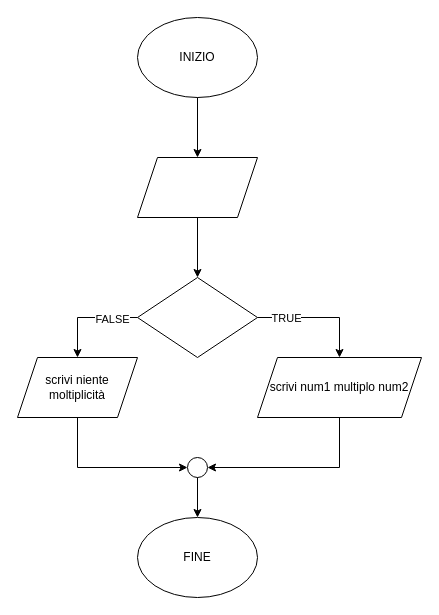
The diagram is 439 pixels wide and 615 high, and some of its shapes have lost their labels. The shapes that lost their labels are listed below. From the top down, each one's centre as x and y in pixels, then its label:
At pixel 197 187: "int num1 int num2".
At pixel 197 317: "num1 % num2 == 0".
